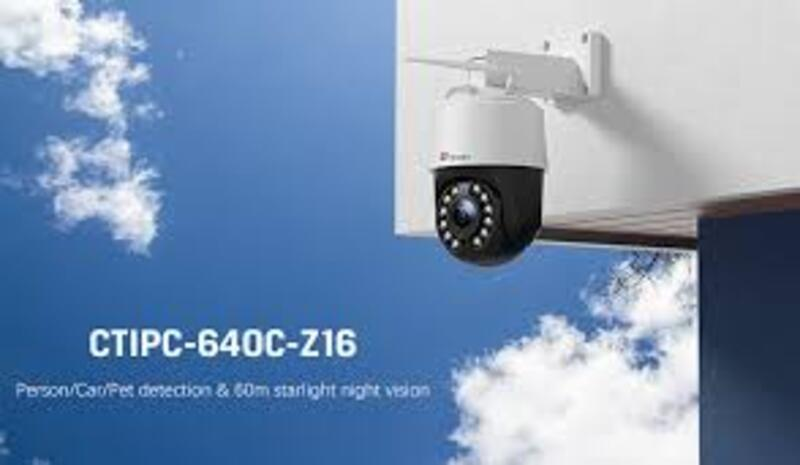dome: (412, 86, 556, 268)
